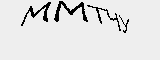М: (53, 1, 89, 25), (21, 1, 51, 23)
Т: (88, 3, 107, 24)
У: (118, 12, 132, 38)
Ч: (106, 10, 122, 32)
